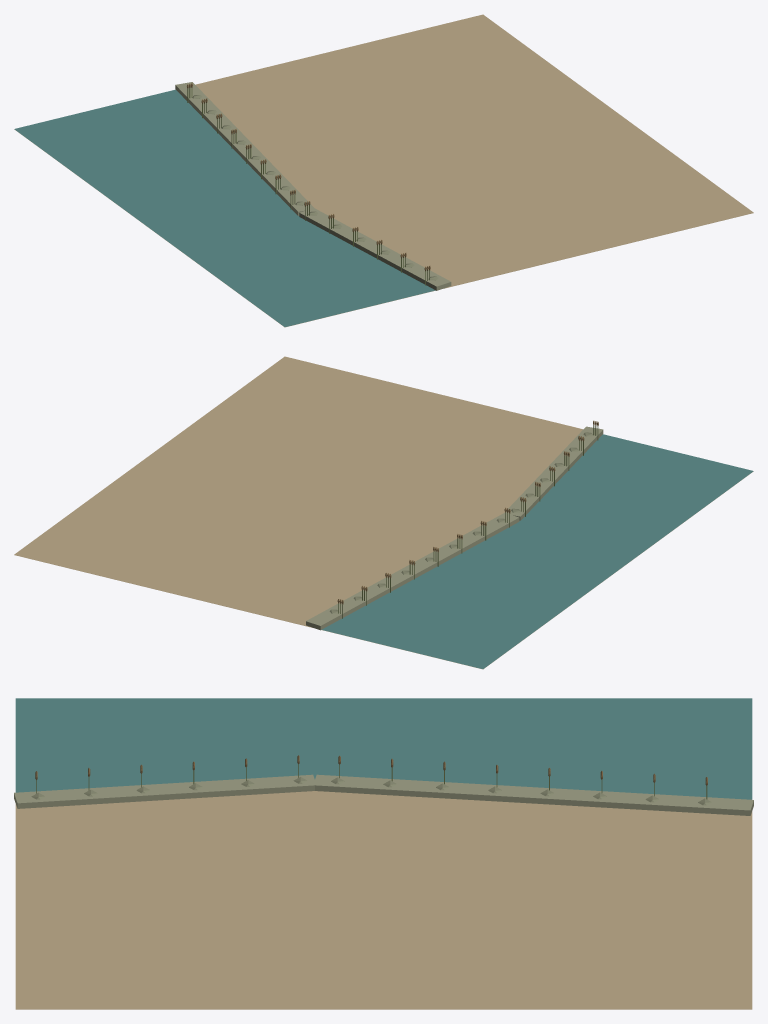
The model's file is city-boundary--2_-1.glb.
3 renders of one model, top to bottom at view 1: azimuth 30°, elevation 25°; view 2: azimuth 150°, elevation 25°; view 3: azimuth 270°, elevation 25°, orthographic. The views are drawn at different scales.
Visible parts, largest first — view 1: city-boundary--2_-1; view 2: city-boundary--2_-1; view 3: city-boundary--2_-1.
Part boxes in pixels (x1=…): city-boundary--2_-1: x1=14, y1=14, x2=753, y2=327; city-boundary--2_-1: x1=14, y1=356, x2=753, y2=669; city-boundary--2_-1: x1=14, y1=698, x2=753, y2=1009.
Size of the model in its own units: 32 by 1.24 by 32.15.
